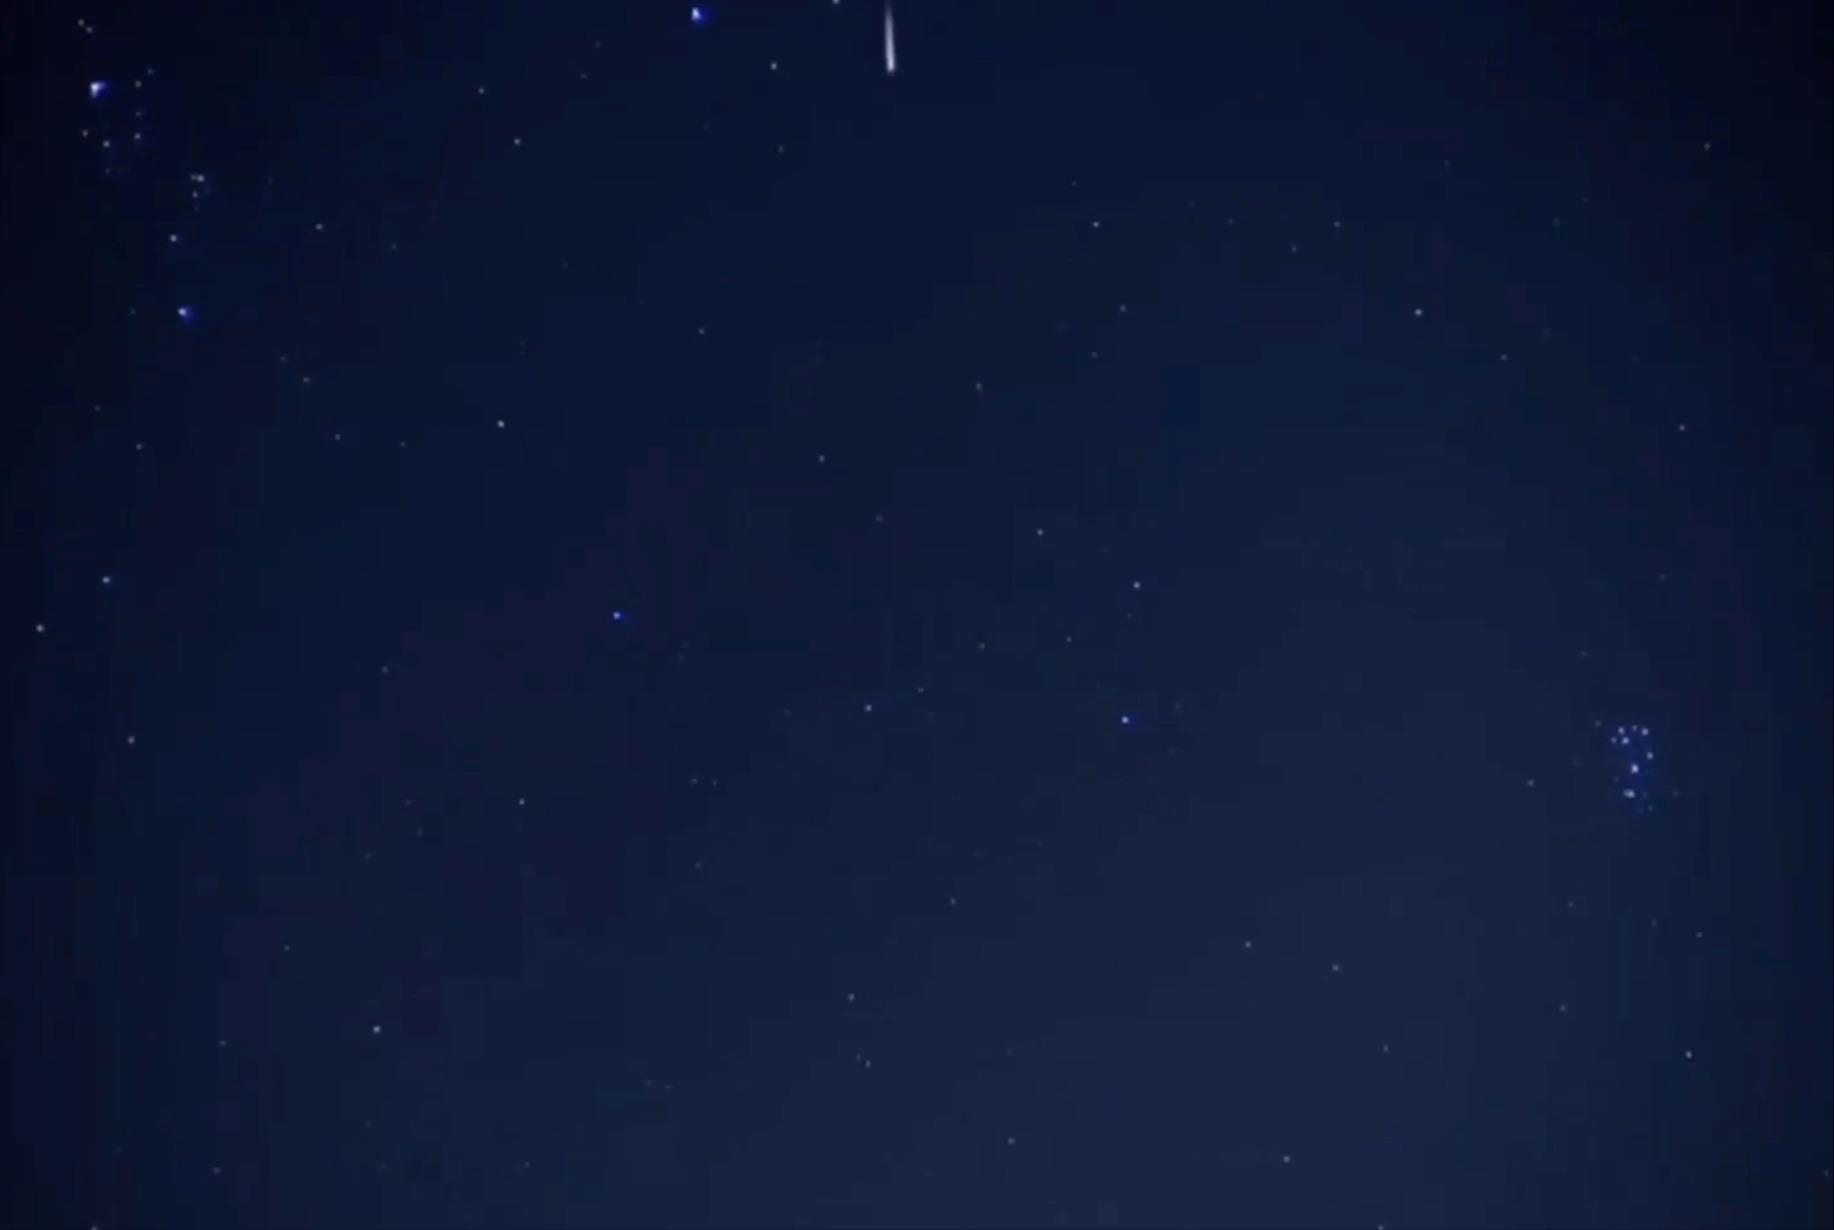meteorite: (787, 0, 982, 84)
